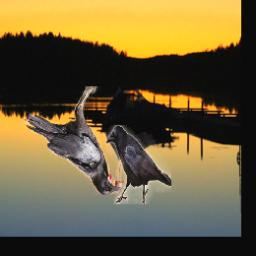Crow: (25, 86, 132, 198), (106, 125, 172, 204)
